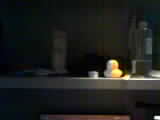duck: (94, 55, 133, 90)
